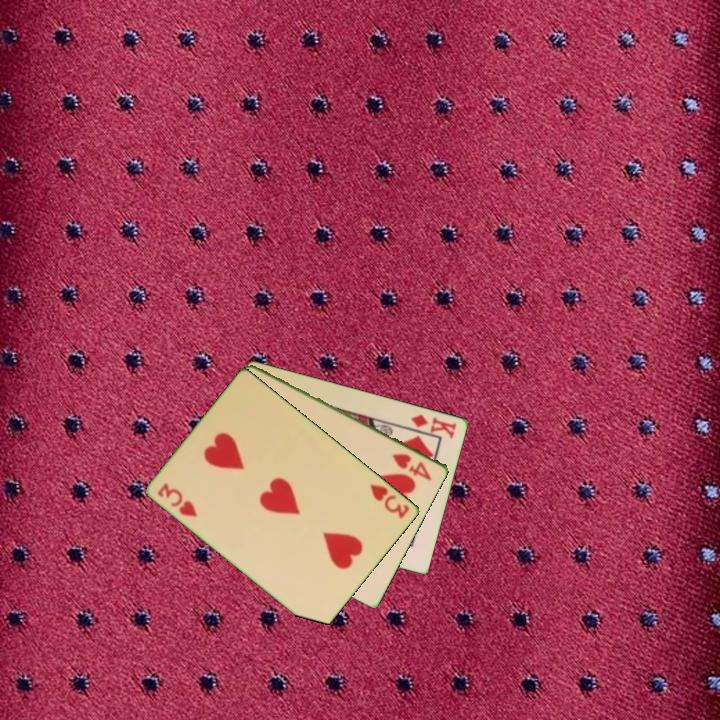3h: (366, 480, 413, 522), (154, 479, 201, 520)
4h: (389, 450, 435, 483)
Kd: (408, 410, 460, 441)
